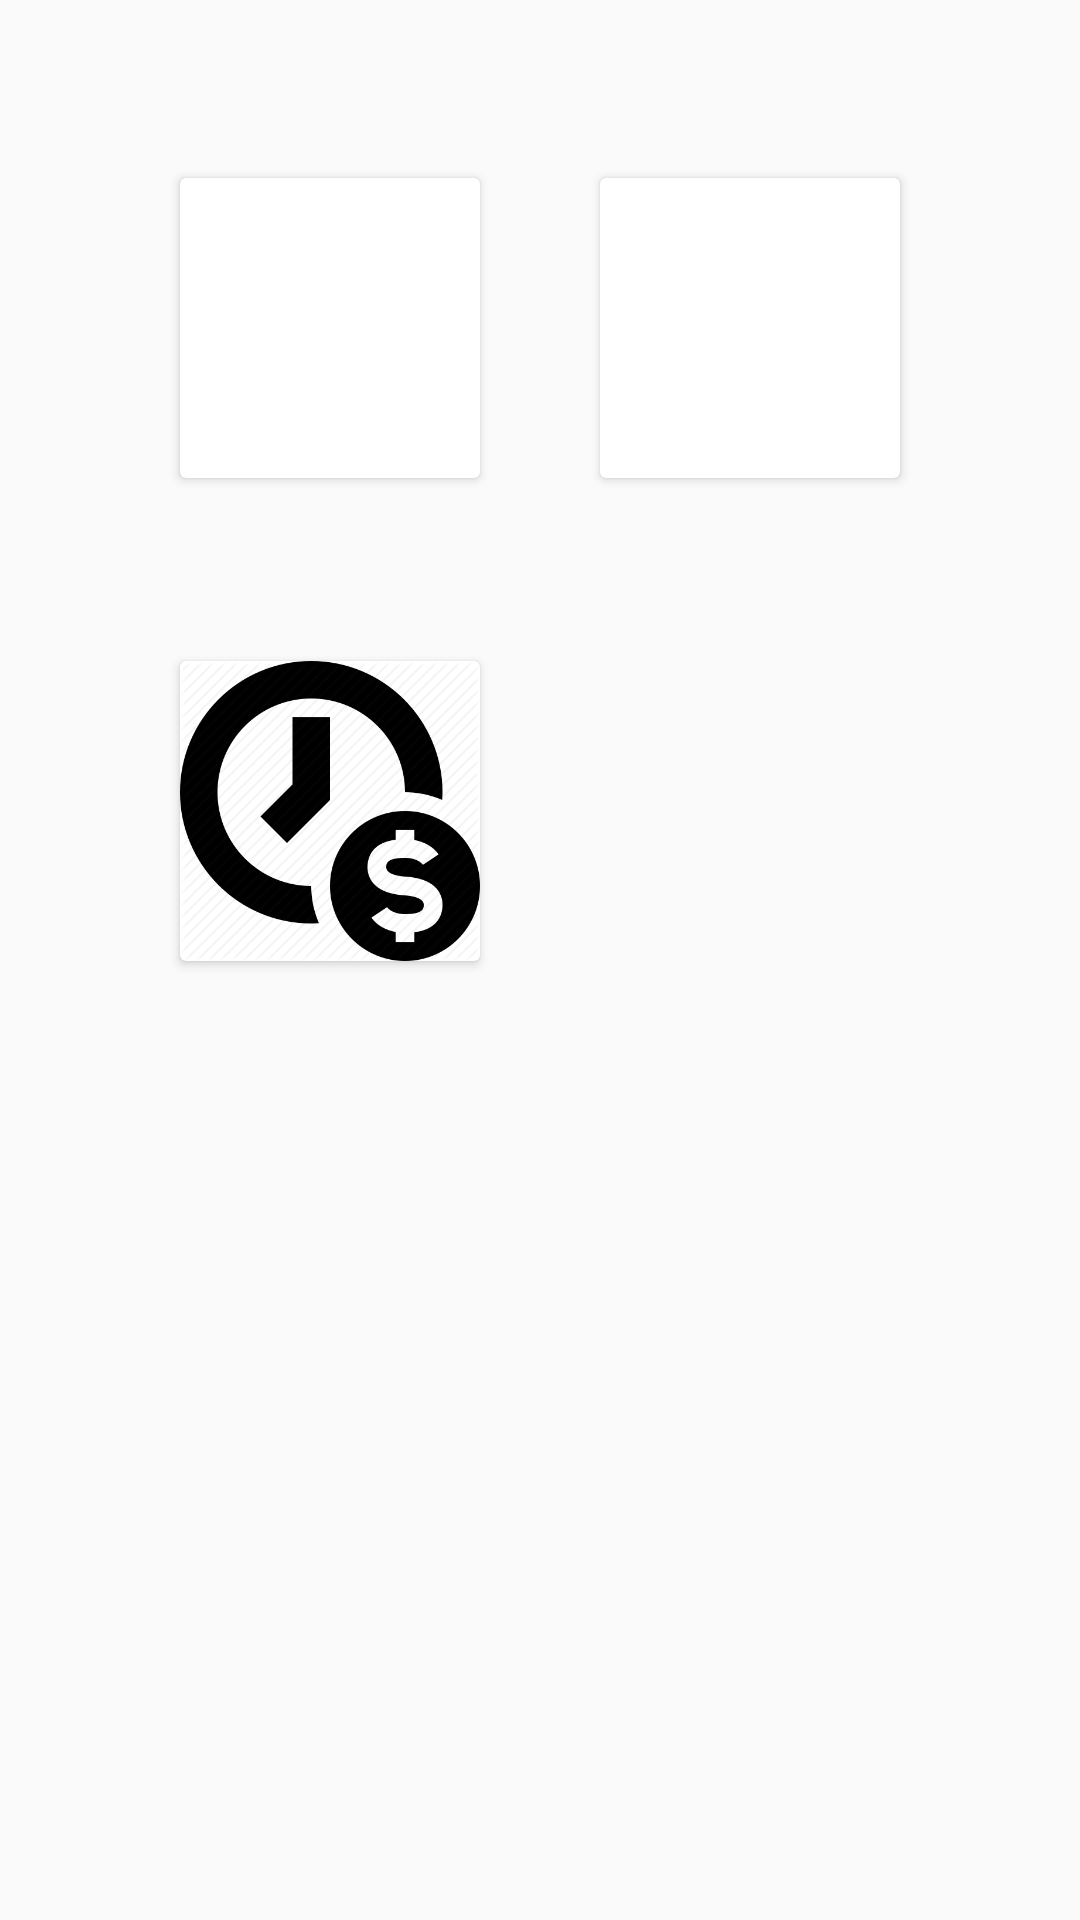

Screen size 1080px x 1920px. Icon name, then its box in pixels as (x1, y1, x2, y2):
credit: (180, 661, 480, 961)
